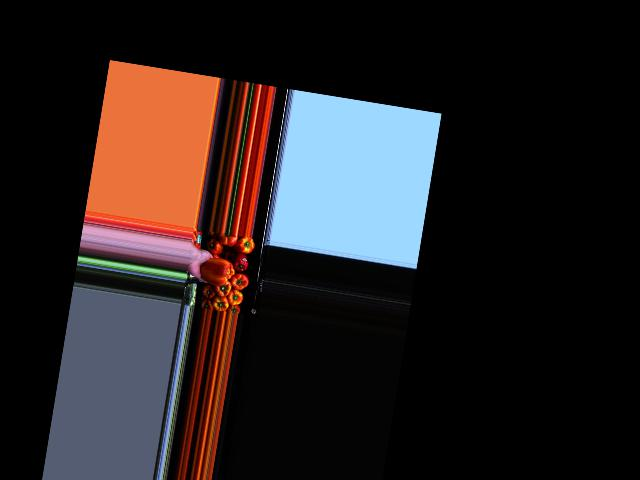bell_pepper: (208, 236, 225, 257)
